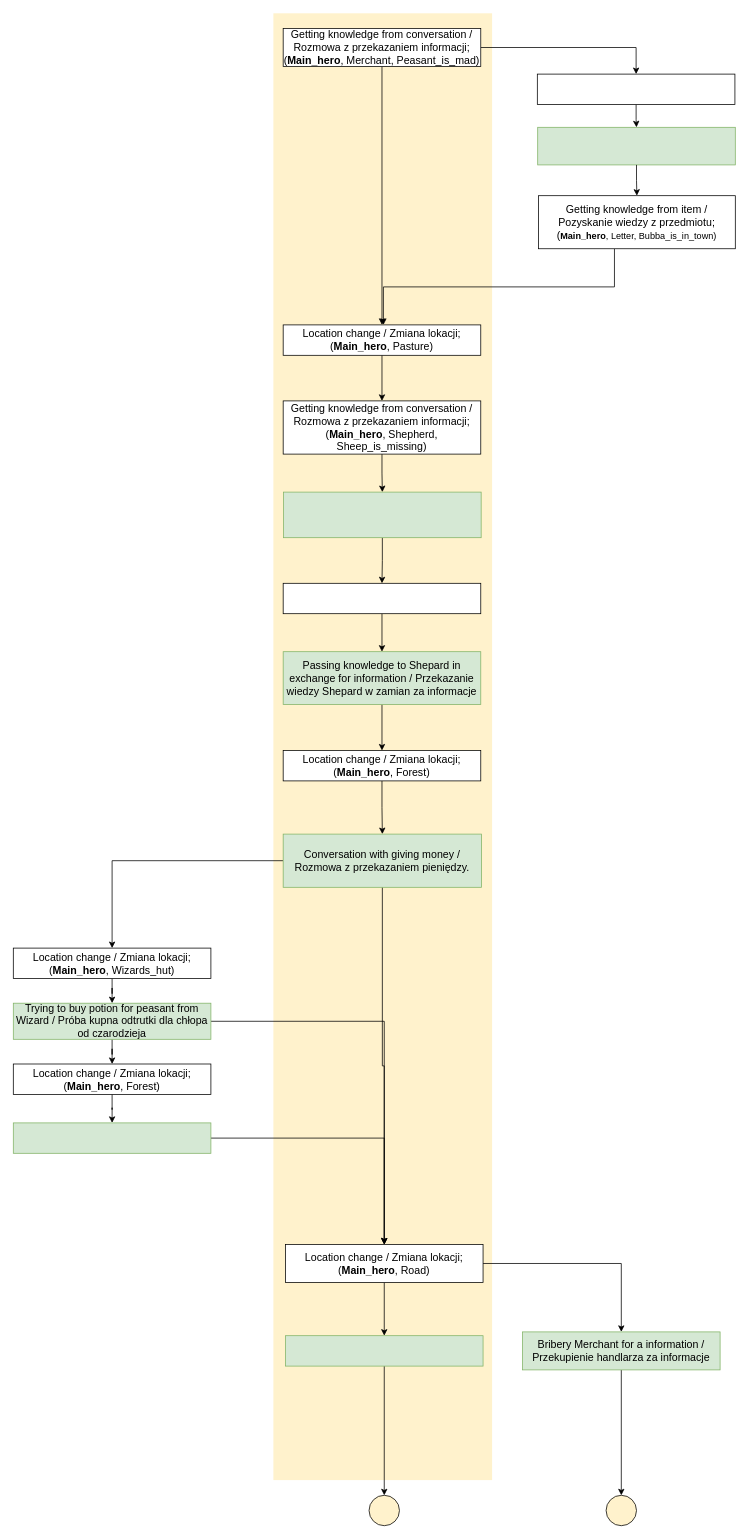
The diagram is 749 pixels wide and 1539 high, and some of its shapes have lost their labels. Here are the shapes that lost their labels. From the top down, the box of each, then its label:
(537, 73, 735, 104): Location change / Zmiana lokacji; ( Main_hero , Lumberjacks_hut )
(537, 127, 735, 165): Fight ending with Lumberjacks stun / Walka zakończona ogłuszeniem drwala
(283, 491, 481, 538): Location change to Peasants_hut / Zmiana lokacji na Peasants_hut.
(282, 583, 481, 614): Location change / Zmiana lokacji ; ( Main_hero , Pasture )
(13, 1122, 211, 1153): Peasant nutrition / Odtruwanie chłopa
(285, 1335, 483, 1366): Using blackmail to get knowledge / Szantazowanie do zdobycia wiedzy
